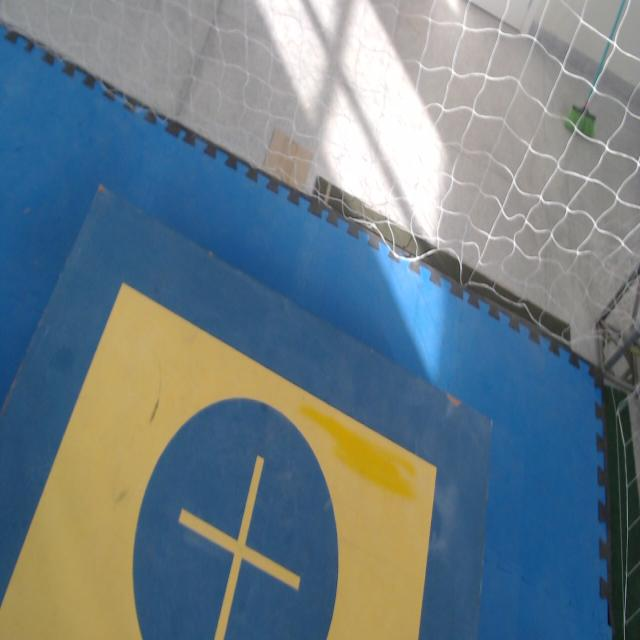base_inicio: (0, 282, 438, 639)
